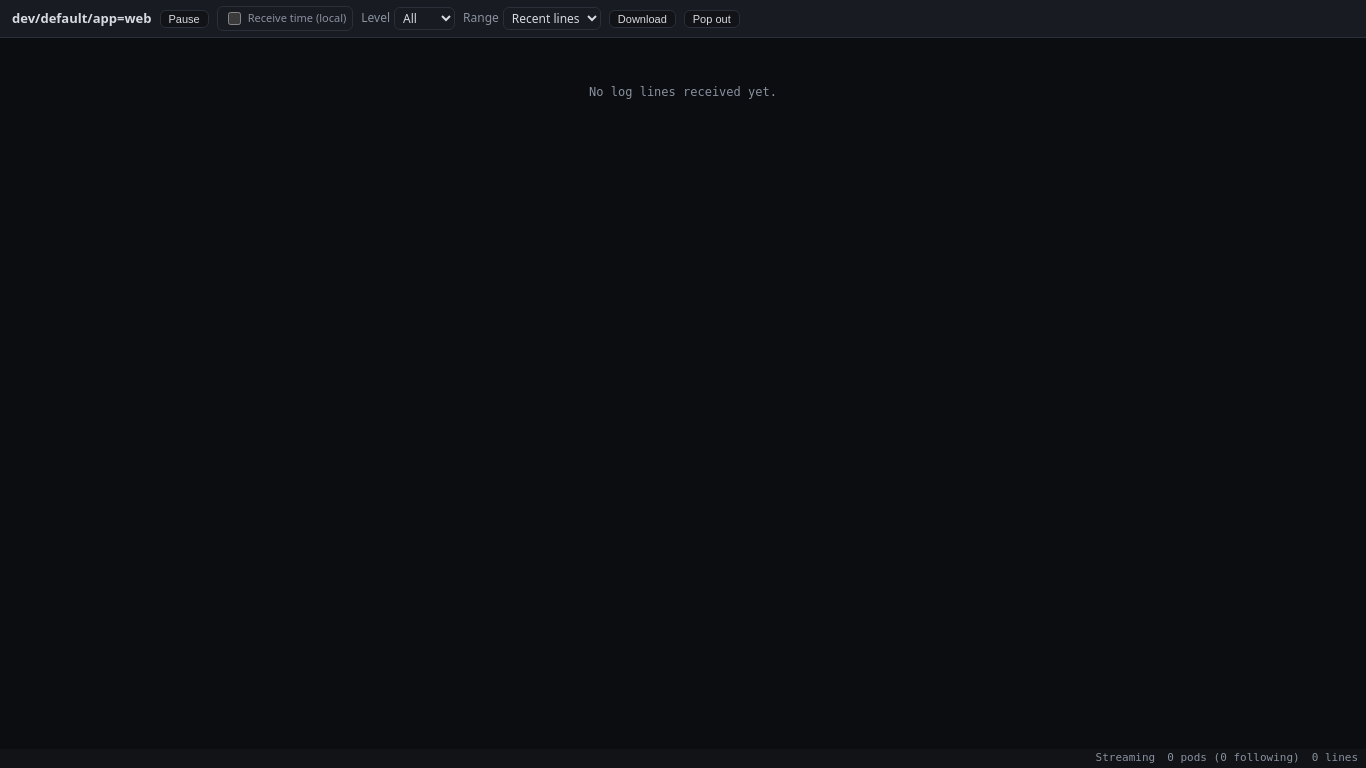
Scenario: <WorkloadLogsView /> › 02-06a time range restarts the stream with sinceSeconds
The width and height of the screenshot is (1366, 768).
Select "Last 5m" in the dropdown named "Time range" at (552, 18), box [503, 7, 601, 30]
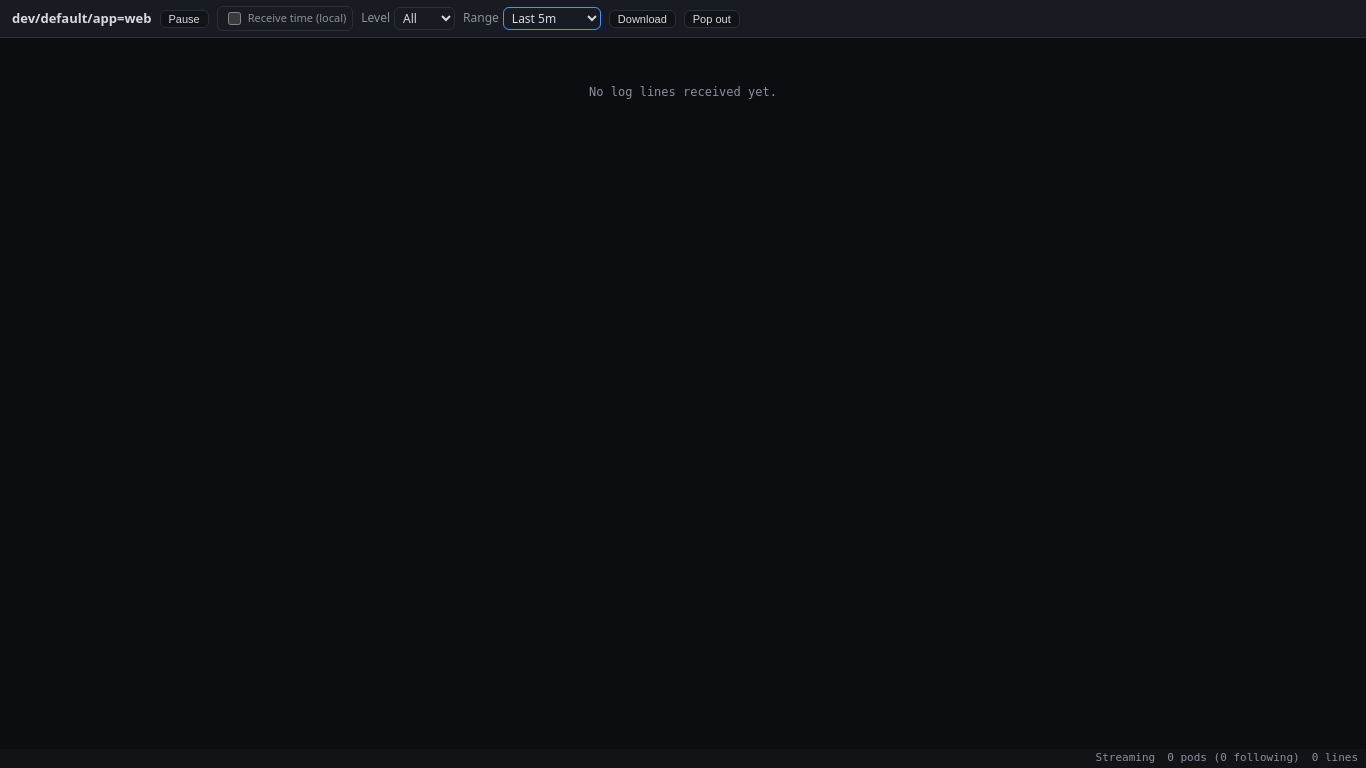
Select "Since start" in the dropdown named "Time range" at (552, 18), box [503, 7, 601, 30]
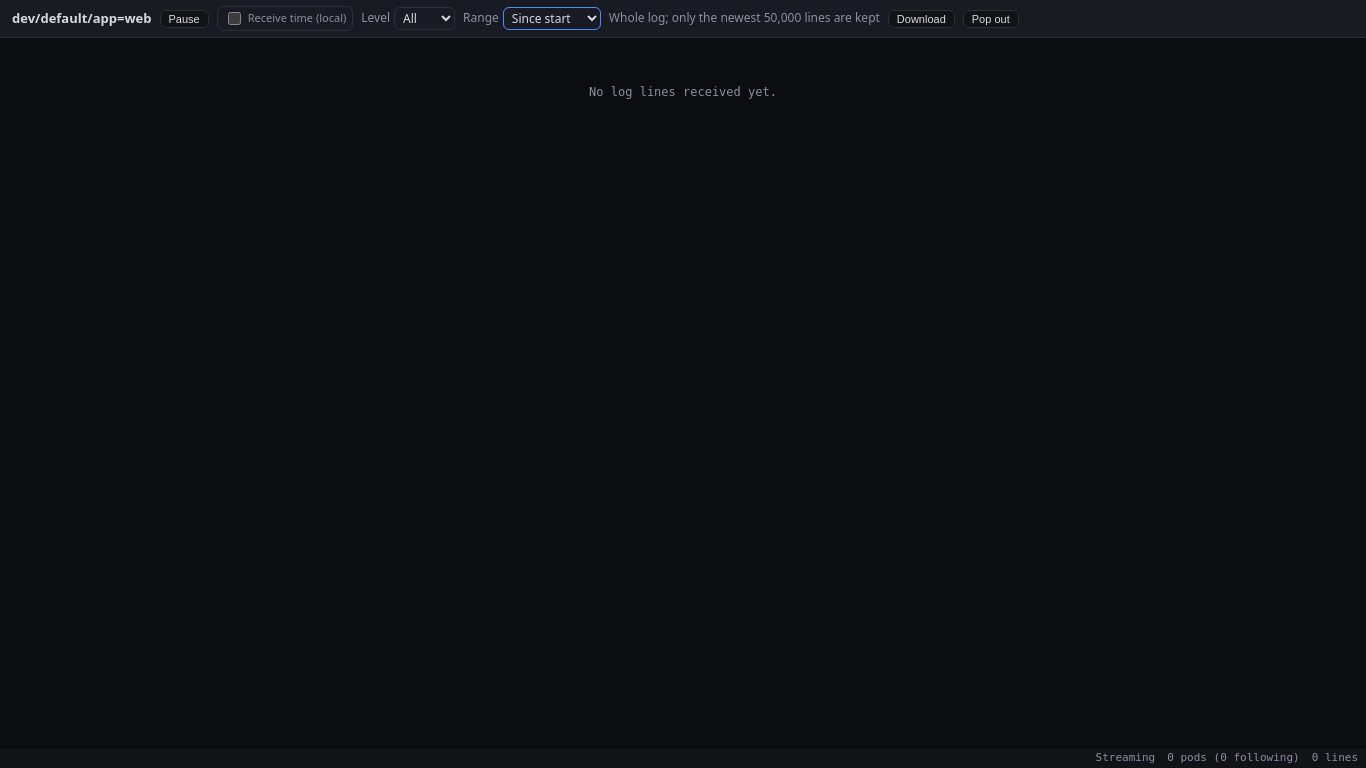
Result: the text with test id "logs-range-hint" shows "only the newest 50,000 lines are kept" at [609, 9, 880, 26]
